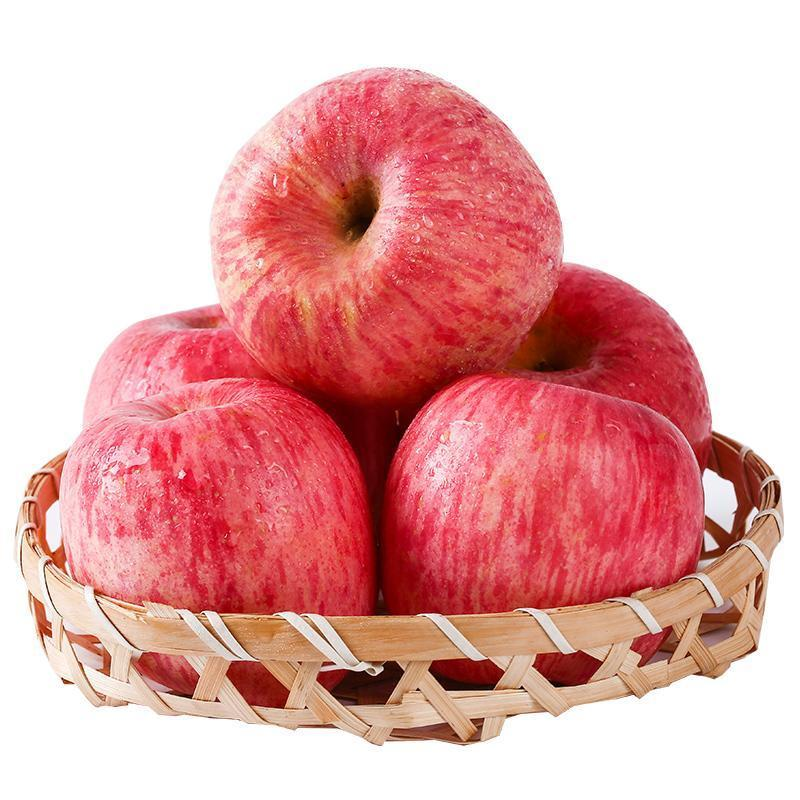apple: (212, 64, 563, 403), (384, 373, 704, 625), (60, 376, 374, 621), (485, 256, 711, 479), (66, 306, 329, 415)
